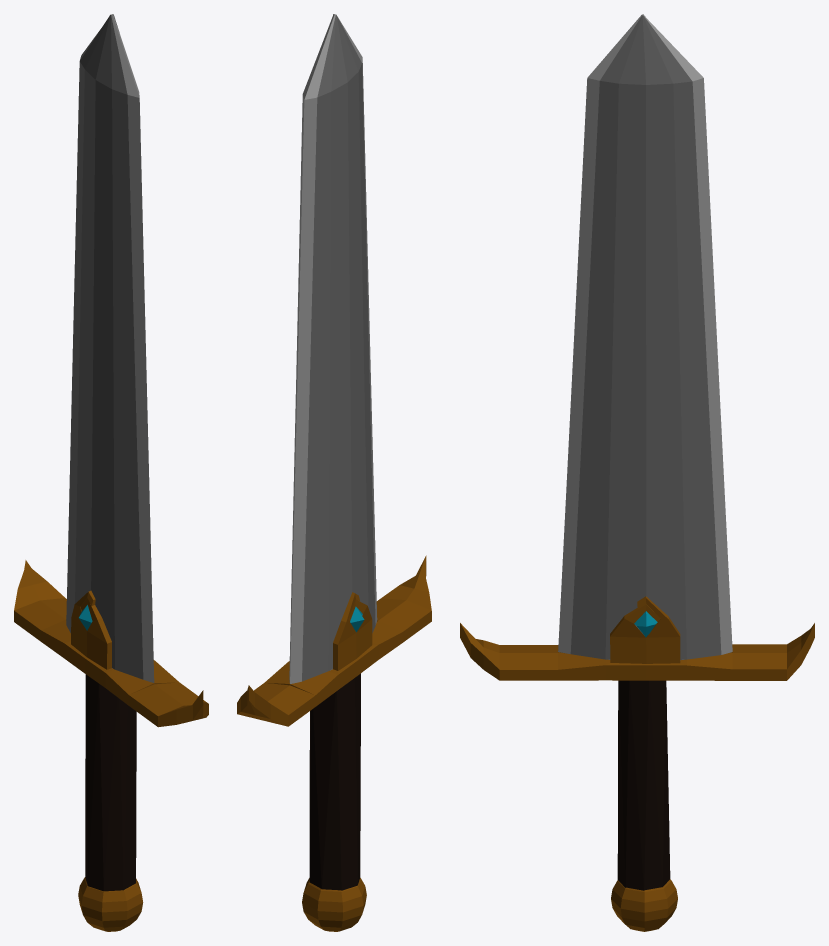
The model's file is Sword.obj.
3 views of the same model, side by side, from view 1: azimuth 30°, elevation 25°; view 2: azimuth 150°, elevation 25°; view 3: azimuth 270°, elevation 25° (orthographic).
Parts seen in each view (by area): view 1: Blade_Cube, Handle_Cylinder, Hilt_Cube.002, Sharp_Cube.005, End_Sphere; view 2: Blade_Cube, Sharp_Cube.005, Handle_Cylinder, Hilt_Cube.002, End_Sphere; view 3: Blade_Cube, Sharp_Cube.005, Hilt_Cube.002, Handle_Cylinder, End_Sphere.
Boxes of the visible parts, x1,y1,x2,y2 form: Blade_Cube: (66,14,143,679); Handle_Cylinder: (85,674,136,891); Hilt_Cube.002: (14,560,208,727); Sharp_Cube.005: (80,14,154,682); End_Sphere: (78,877,143,931); Blade_Cube: (302,14,375,681); Sharp_Cube.005: (289,14,377,683); Handle_Cylinder: (309,673,360,890); Hilt_Cube.002: (237,555,431,726); End_Sphere: (302,878,366,931); Blade_Cube: (570,15,721,660); Sharp_Cube.005: (558,14,732,654); Hilt_Cube.002: (460,596,814,680); Handle_Cylinder: (617,680,670,890); End_Sphere: (611,879,677,931).
Bounding box in the file's own units: 0.2294 × 3.19 × 1.12.
